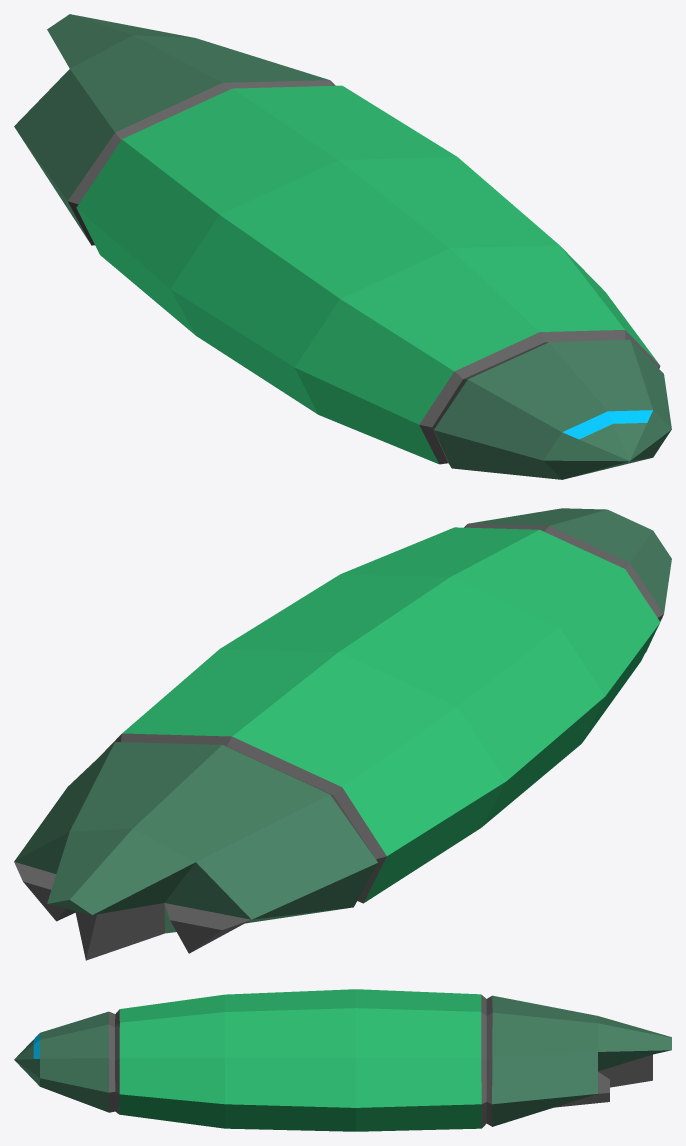
File: ship_slug.fbx
The picture shows the model from 3 angles, top to bottom: view 1: azimuth 30°, elevation 25°; view 2: azimuth 150°, elevation 25°; view 3: azimuth 270°, elevation 25°; orthographic projection. The views are drawn at different scales.
Visible parts, largest first — view 1: sphere2; view 2: sphere2; view 3: sphere2.
Part boxes in pixels (left/top/right/bottom): sphere2: left=14, top=14, right=671, bottom=479; sphere2: left=14, top=508, right=671, bottom=960; sphere2: left=14, top=989, right=671, bottom=1131.
Bounding box in the file's own units: 80 × 36.27 × 231.
Materials: 1 (1 with a texture image).
